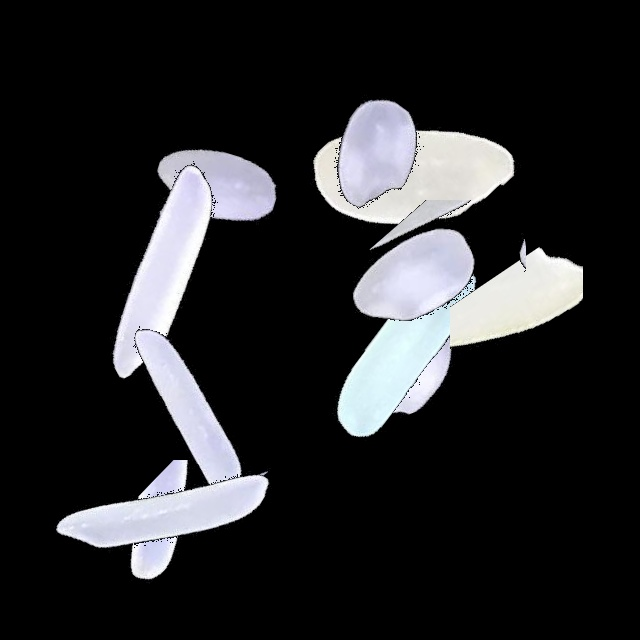Broken: (450, 217, 583, 467), (75, 460, 325, 587), (324, 200, 574, 322), (94, 172, 344, 264), (438, 132, 526, 382), (118, 406, 368, 481)
Full: (285, 42, 535, 292), (251, 28, 501, 278), (90, 58, 340, 308), (279, 246, 529, 496), (276, 223, 526, 473), (33, 147, 283, 397), (63, 291, 313, 541), (289, 148, 539, 398), (40, 380, 290, 630)
